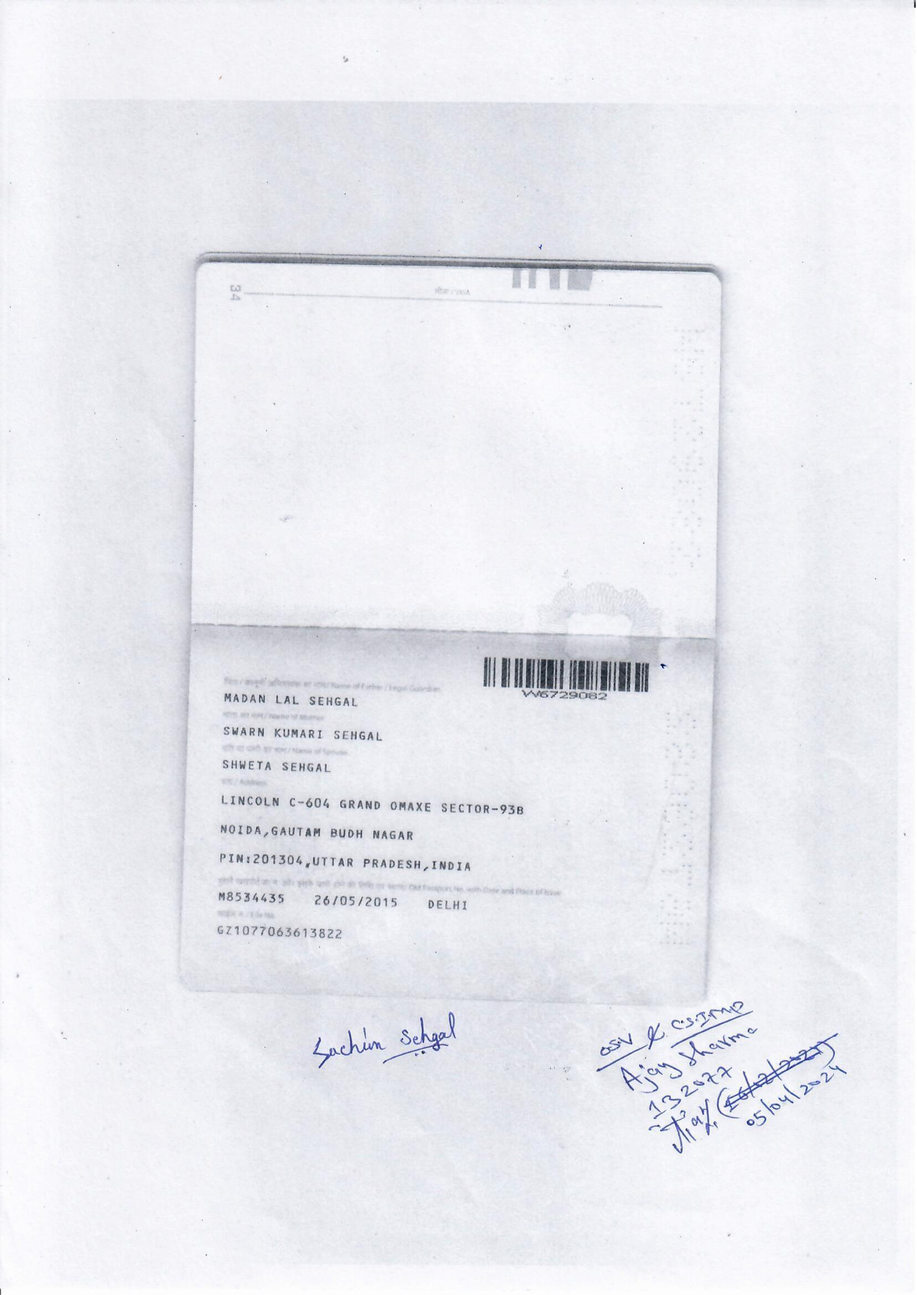File_no: (210, 919, 346, 950)
address: (203, 772, 540, 885)
father_name: (217, 686, 378, 714)
mother_name: (215, 722, 387, 747)
old_passport_details: (210, 886, 484, 919)
passport_no: (520, 684, 618, 710)
spouse_name: (215, 752, 331, 778)
